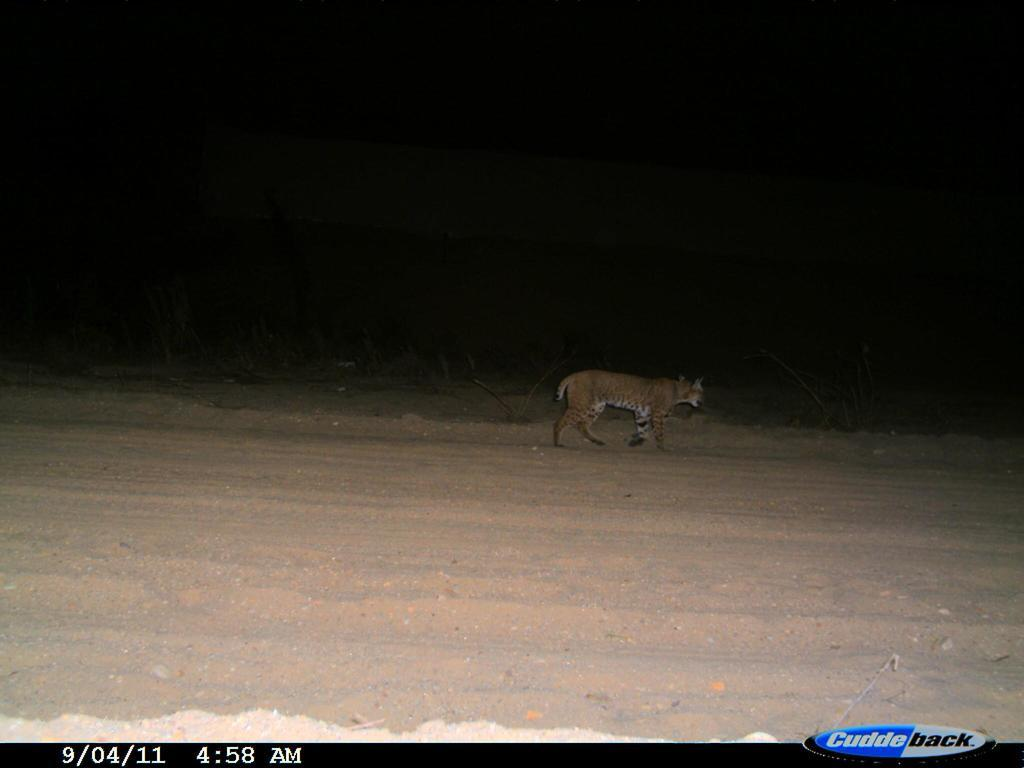bobcat: (551, 368, 709, 457)
